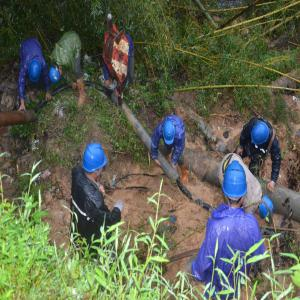blue: (222, 160, 249, 210), (84, 142, 106, 184), (251, 122, 270, 150), (258, 195, 276, 223), (162, 120, 176, 148), (29, 58, 43, 85), (50, 63, 63, 86)
